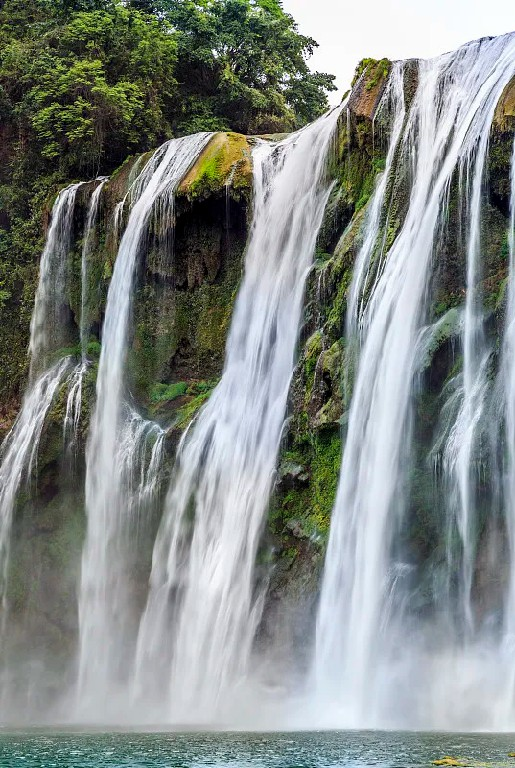Huangguoshu: (1, 32, 515, 733)
